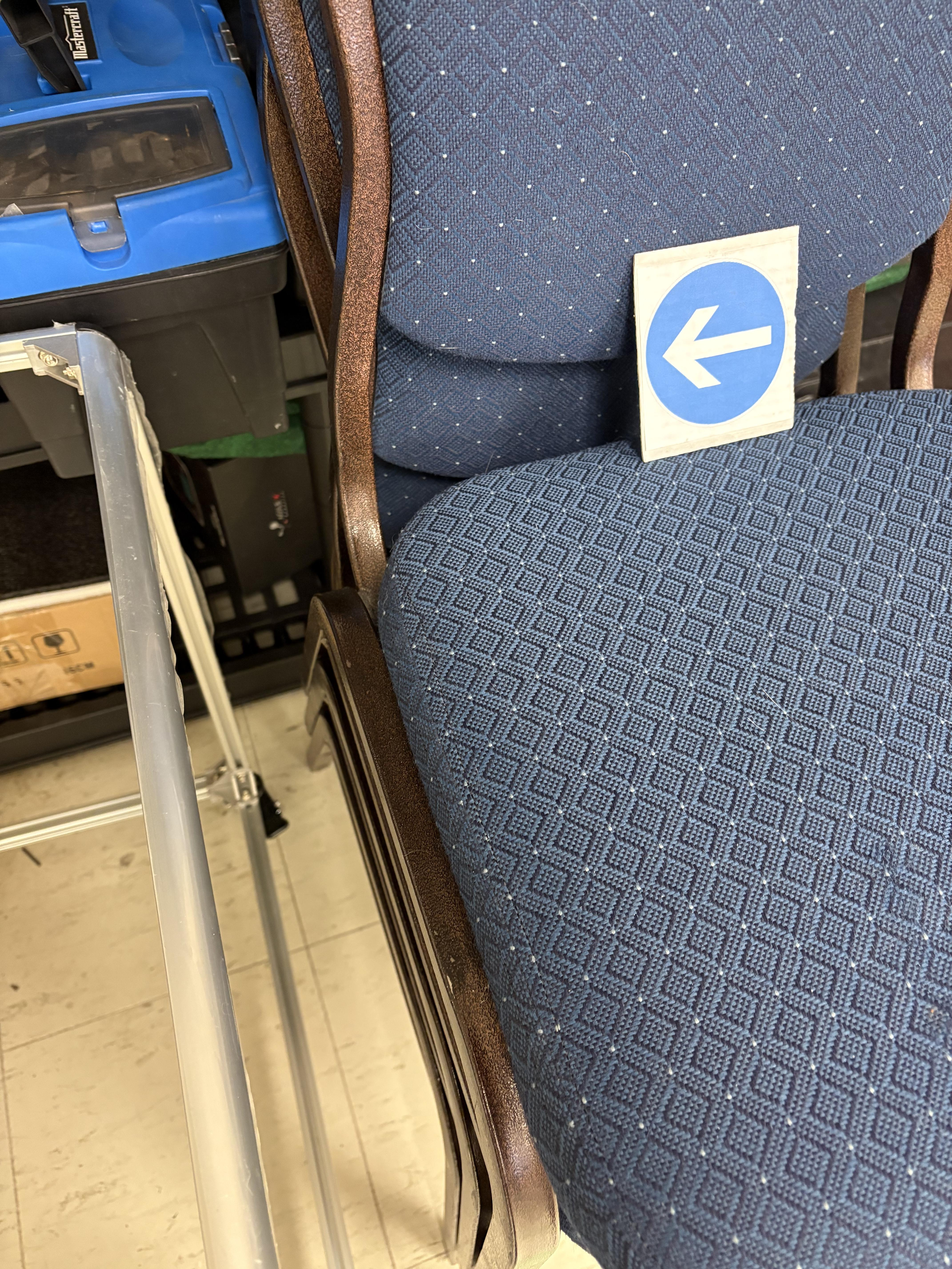Proceed Left: (475, 302, 605, 619)
